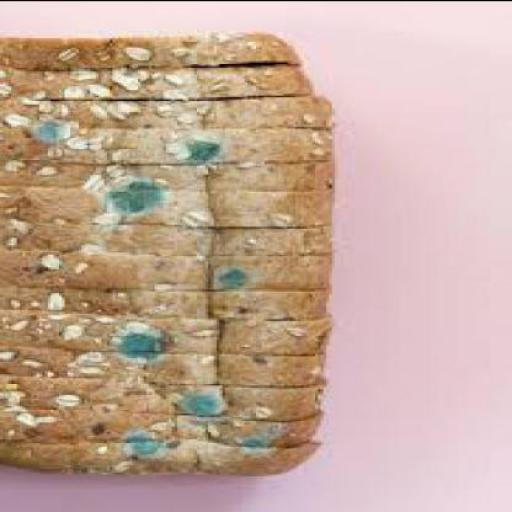biodegradable: (3, 30, 338, 475)
